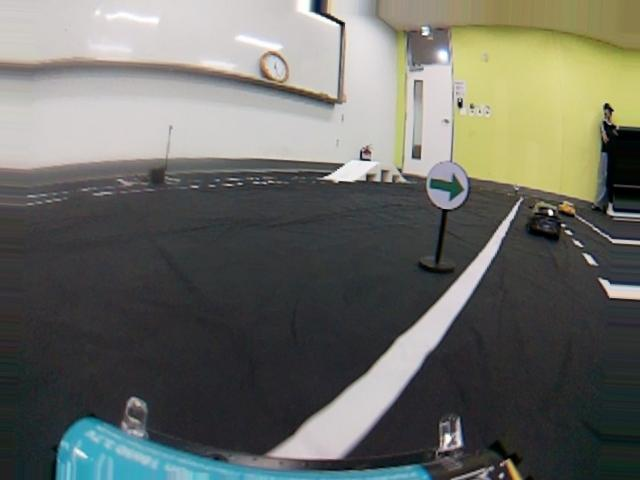car: (524, 200, 565, 243)
right: (4, 267, 640, 480)
sign_right: (425, 159, 471, 212)
